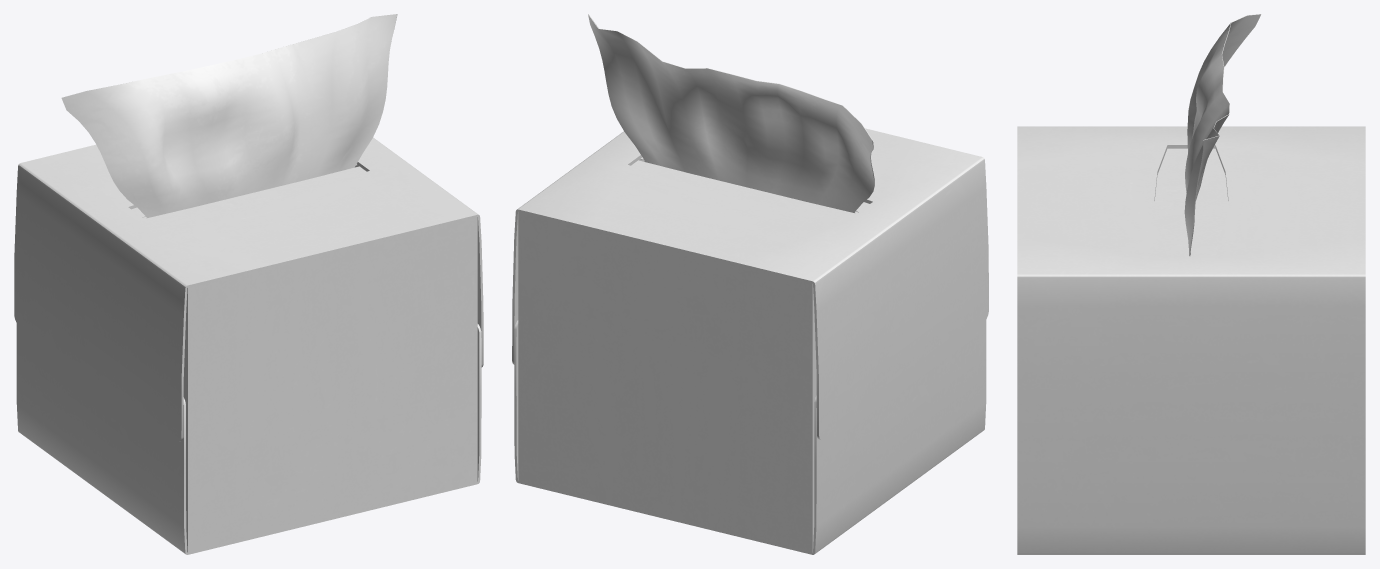
Rendered from tissues.glb.
3 renders of one model, left to right at view 1: azimuth 30°, elevation 25°; view 2: azimuth 150°, elevation 25°; view 3: azimuth 270°, elevation 25°, orthographic. The views are drawn at different scales.
Parts seen in each view (by area): view 1: TissueBox; view 2: TissueBox; view 3: TissueBox.
Part boxes in pixels (x1,y1,x2,y2): TissueBox: (14, 14, 483, 554); TissueBox: (512, 14, 988, 554); TissueBox: (1017, 14, 1365, 554).
Bounding box in the file's own units: 0.1916 × 0.2391 × 0.18.
Materials: 1 (1 with a texture image).
